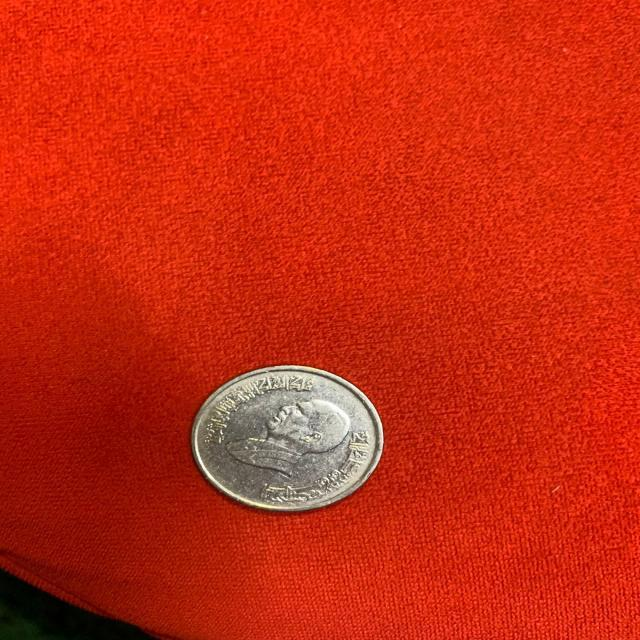10-coins: (189, 363, 385, 512)
